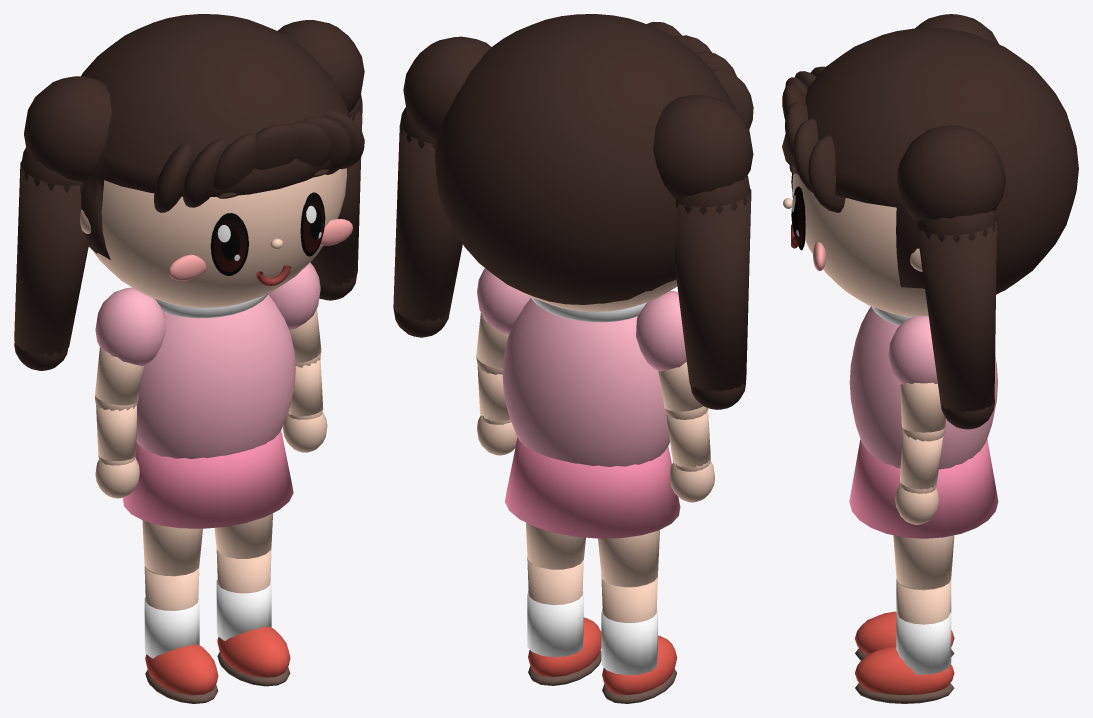
The model's file is v_mio.glb.
3 renders of one model, left to right at view 1: azimuth 30°, elevation 25°; view 2: azimuth 150°, elevation 25°; view 3: azimuth 270°, elevation 25°, orthographic. The views are drawn at different scales.
Parts seen in each view (by area): view 1: head, spine, shinR, shinL, upperArmR, foreArmR, upperArmL, foreArmL, thighR, thighL; view 2: head, spine, shinR, shinL, upperArmR, foreArmR, upperArmL, thighR, foreArmL, thighL; view 3: head, spine, shinL, upperArmL, foreArmL, thighL, shinR.
Part boxes in pixels (x1,y1,x2,y2): head: (14, 14, 364, 370); spine: (122, 293, 295, 528); shinR: (144, 564, 218, 703); shinL: (216, 546, 290, 686); upperArmR: (94, 287, 165, 411); foreArmR: (95, 405, 139, 498); upperArmL: (268, 262, 321, 367); foreArmL: (283, 358, 327, 452); thighR: (142, 520, 202, 575); thighL: (214, 513, 272, 558); head: (393, 14, 753, 409); spine: (502, 297, 680, 538); shinR: (601, 575, 677, 703); shinL: (527, 556, 601, 685); upperArmR: (636, 291, 708, 419); foreArmR: (666, 410, 715, 502); upperArmL: (476, 268, 530, 374); thighR: (598, 530, 659, 586); foreArmL: (477, 366, 517, 455); thighL: (526, 522, 585, 569); head: (782, 14, 1078, 429); spine: (849, 306, 998, 538); shinL: (855, 579, 954, 703); upperArmL: (888, 316, 945, 441); foreArmL: (895, 431, 943, 524); thighL: (893, 535, 954, 589); shinR: (855, 580, 954, 660).
Bounding box in the file's own units: 0.7 × 1.28 × 0.5416.
13 materials, 1 textured.
